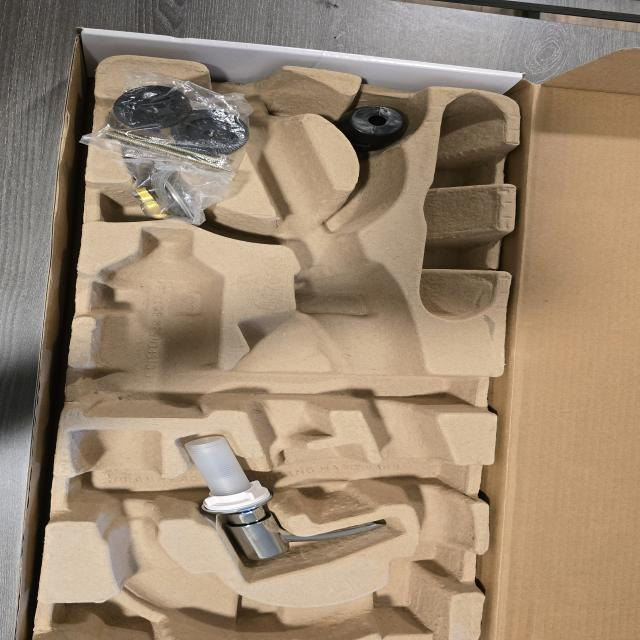1m: (70, 63, 471, 636)
2: (182, 435, 387, 561)
3m: (82, 227, 222, 418)
4m: (420, 91, 506, 321)
5: (339, 107, 409, 150)
6o: (122, 150, 236, 228)
7: (81, 68, 253, 180)
